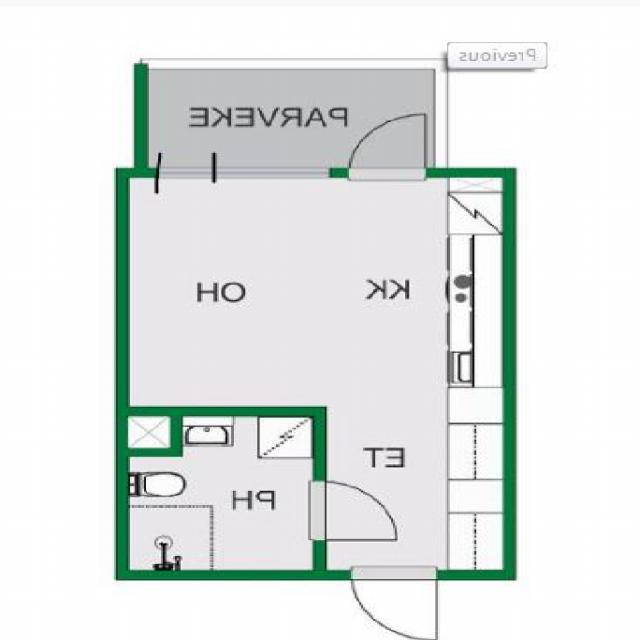door: (353, 568, 437, 640), (313, 480, 405, 540), (154, 113, 224, 177)
